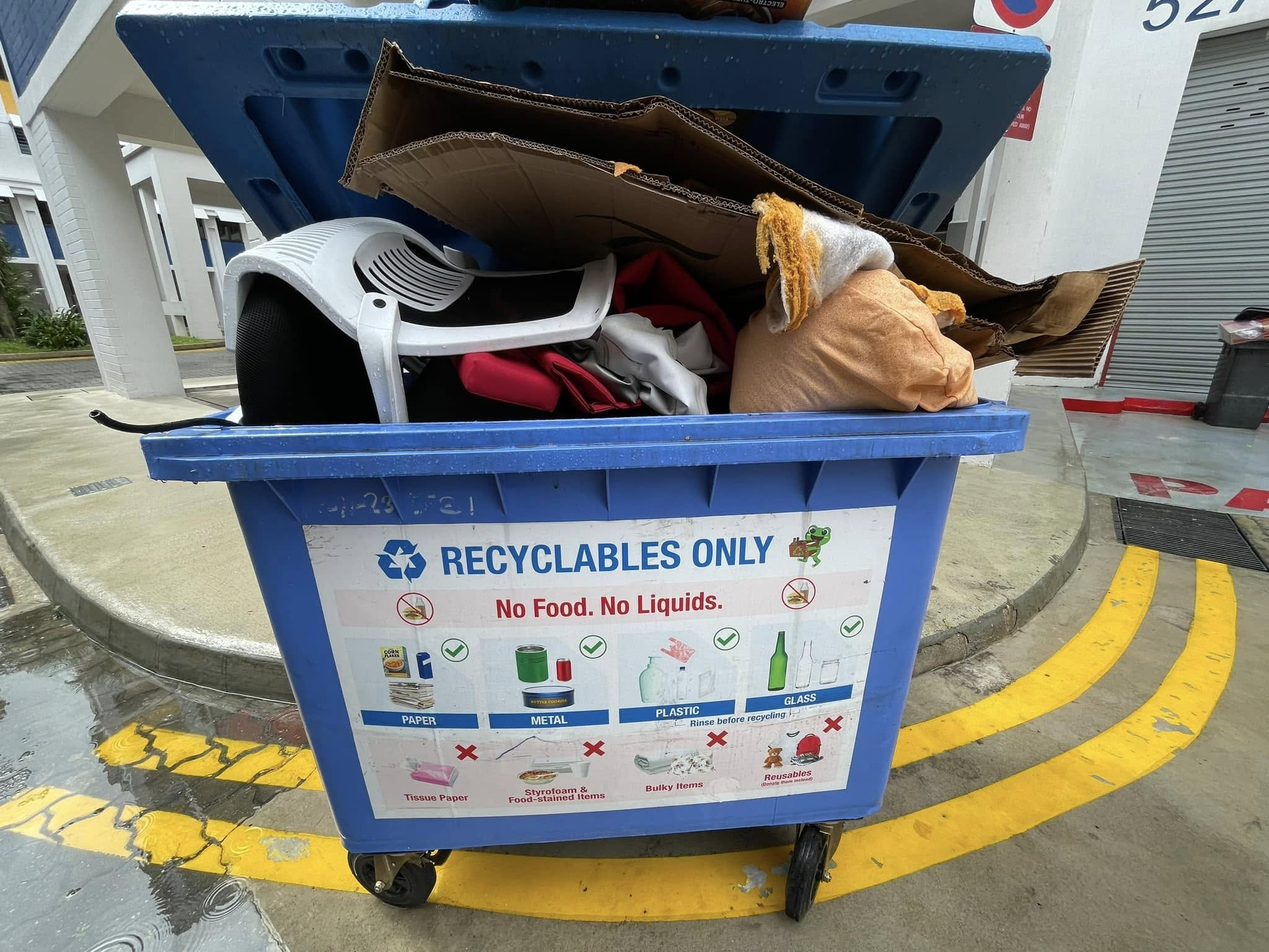bin_full: (94, 2, 1139, 918), (1192, 309, 1268, 428)
bulk_waste: (341, 40, 1139, 335), (222, 217, 617, 424)
